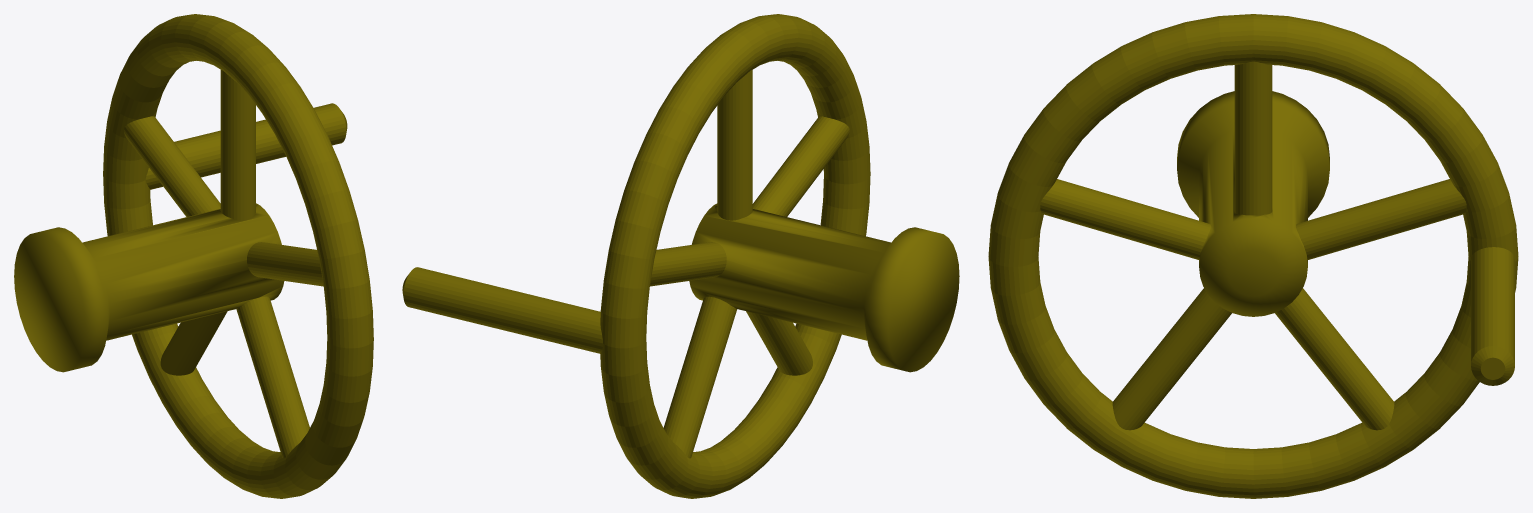
File: Crank_Vice.fbx
3 views of the same model, side by side, from view 1: azimuth 30°, elevation 25°; view 2: azimuth 150°, elevation 25°; view 3: azimuth 270°, elevation 25° (orthographic). The views are drawn at different scales.
Parts seen in each view (by area): view 1: Crank_Vice_LP; view 2: Crank_Vice_LP; view 3: Crank_Vice_LP.
Part boxes in pixels (box(x1,y1,x2,y2)): Crank_Vice_LP: box(14, 14, 373, 498); Crank_Vice_LP: box(402, 14, 959, 498); Crank_Vice_LP: box(988, 14, 1518, 498).
Bounding box in the file's own units: 12.65 × 13.44 × 13.44.
